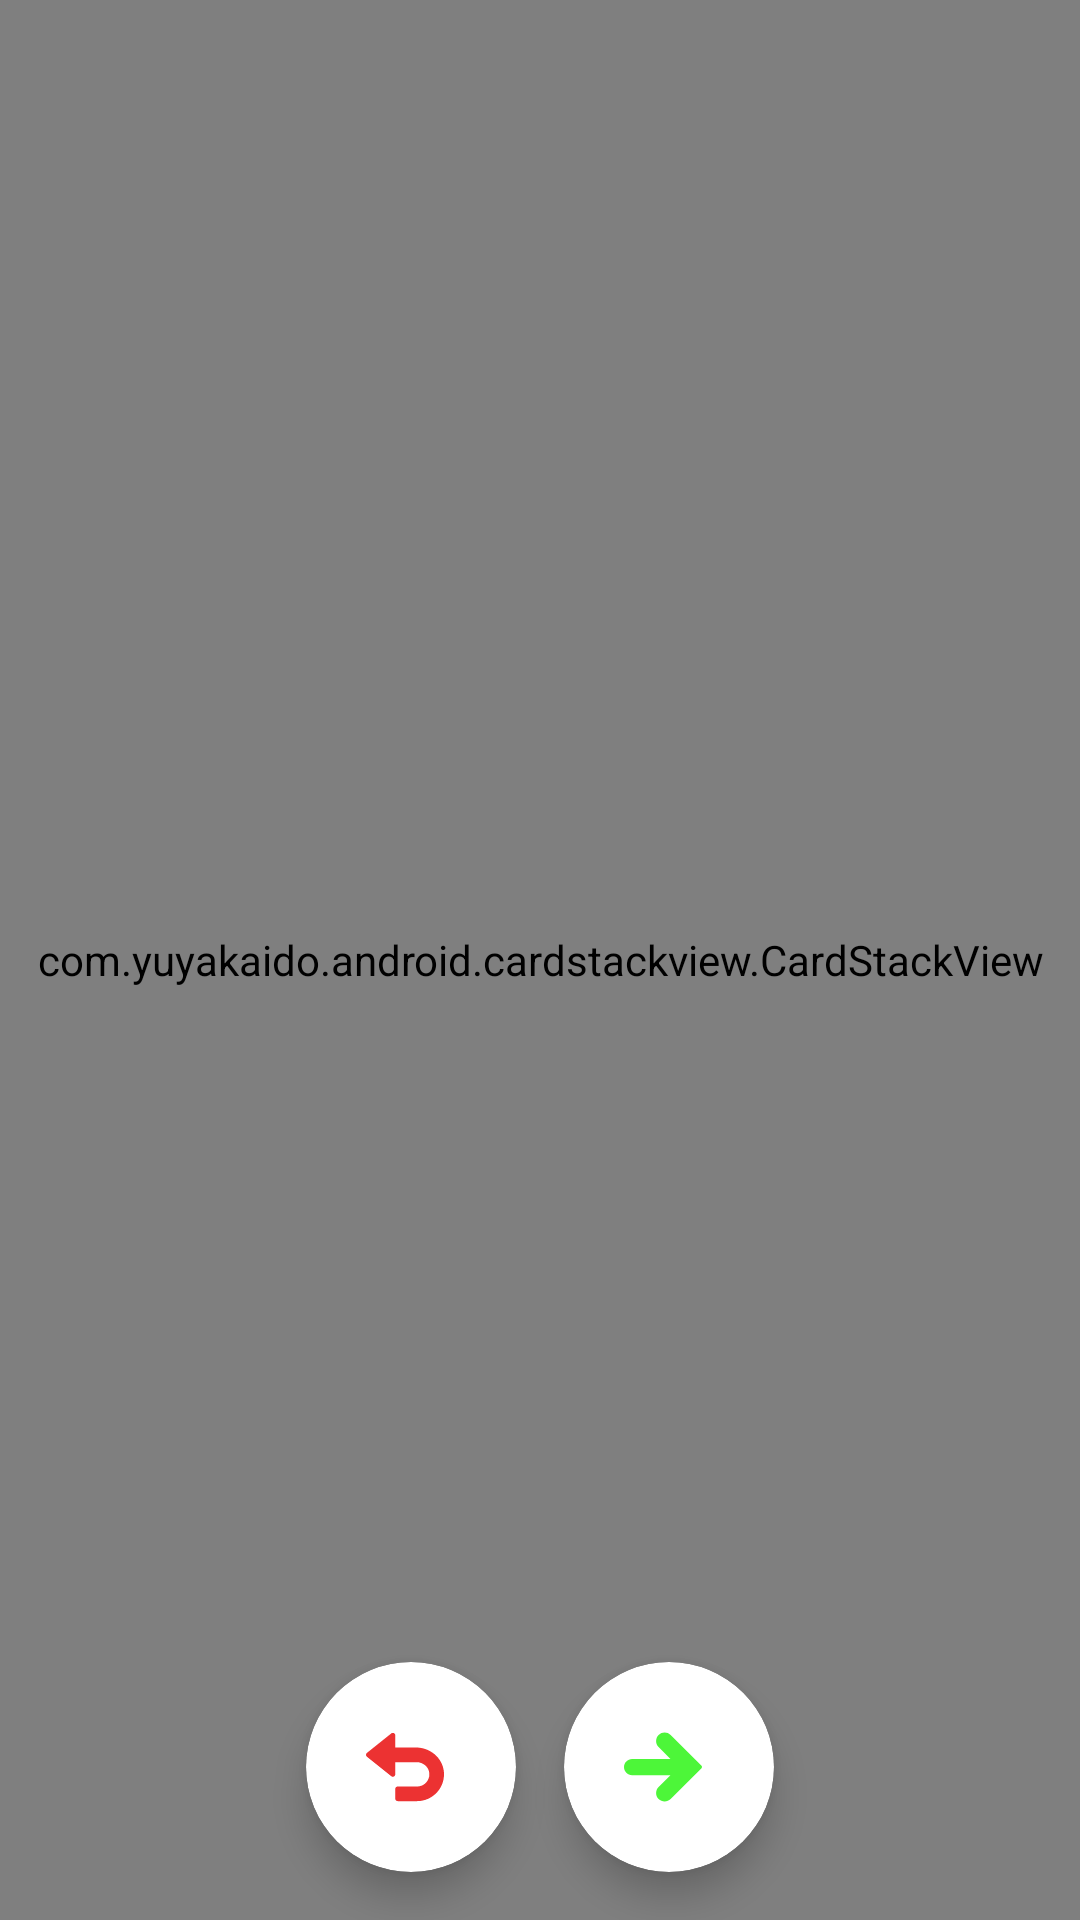

Icon bounding boxes for this 1080*1920 phone screenshot, format box=[x1, y1, x2, y2]:
back: box=[306, 1662, 504, 1872]
